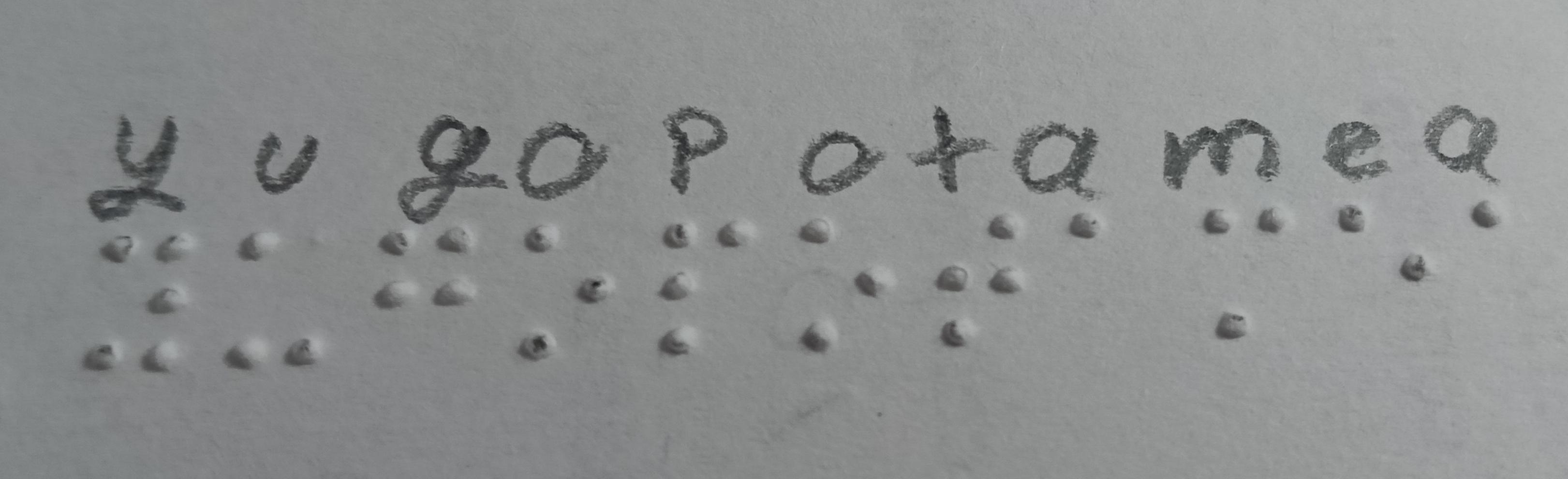a: (1448, 179, 1525, 254), (1056, 198, 1111, 256)
e: (1307, 187, 1440, 299)
g: (364, 217, 485, 333)
m: (1193, 200, 1291, 349)
o: (498, 212, 617, 373), (777, 204, 898, 356)
p: (637, 214, 758, 367)
t: (927, 208, 1033, 351)
u: (210, 222, 335, 372)
y: (87, 212, 193, 383)
